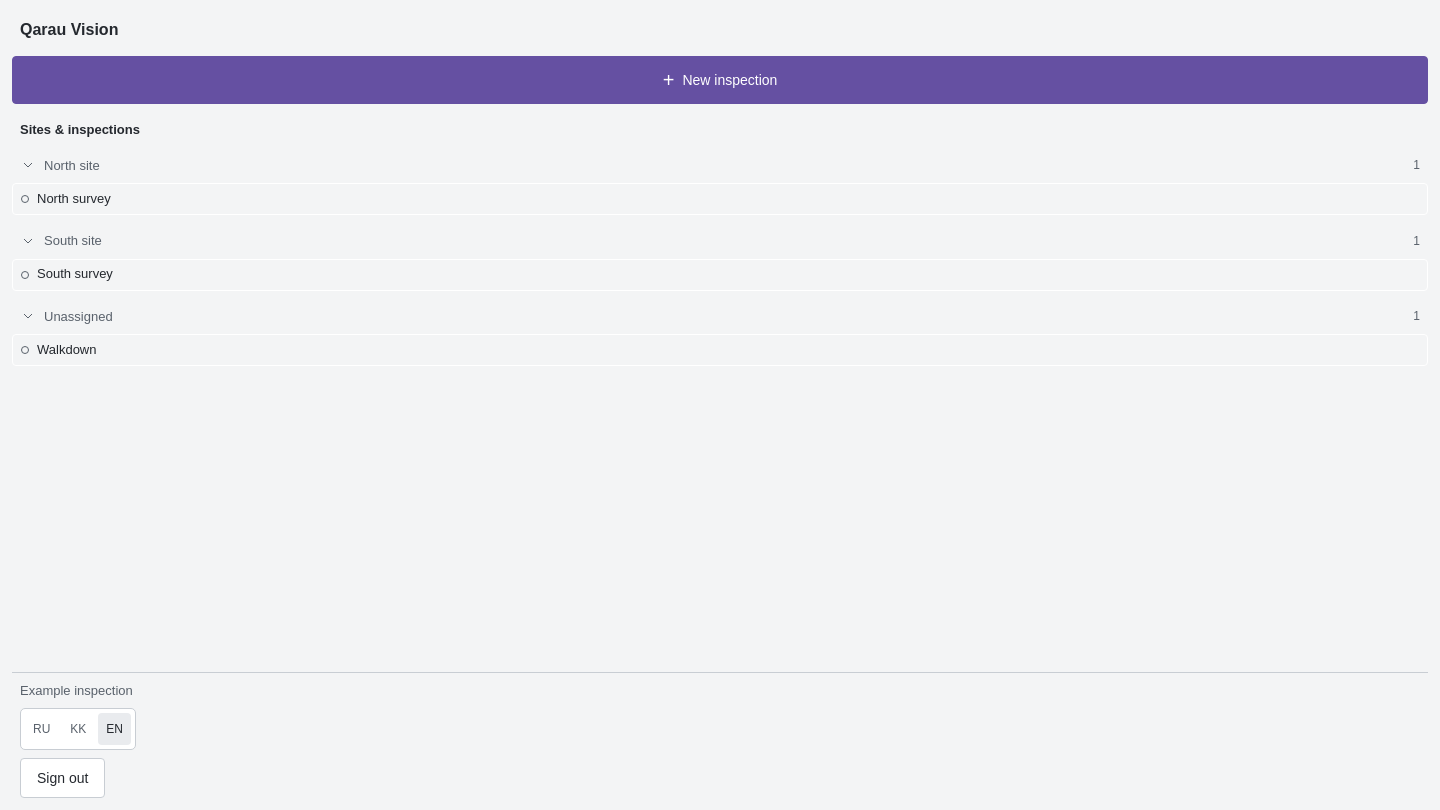
Test: Sidebar › opens the new inspection dialog from the button
The width and height of the screenshot is (1440, 810).
Click the button "+ New inspection": (720, 80) [12,56,1428,104]
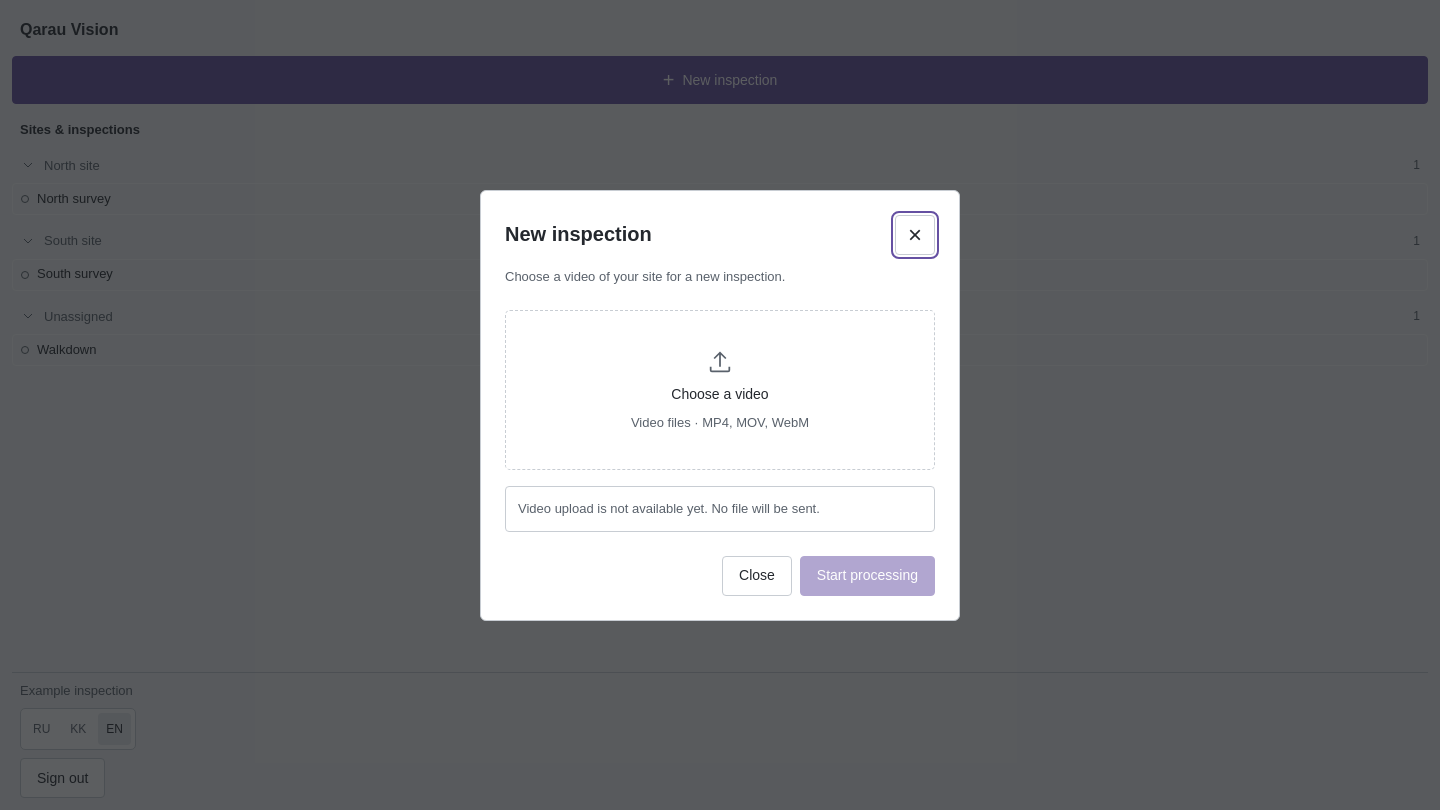
Expected: the dialog "New inspection" is shown, [480,190,960,620]
Expected: the text "Video upload is not available yet. No file will be sent." is shown, [505,486,935,532]
Click the button named "Close": (915, 234) [895,214,935,254]
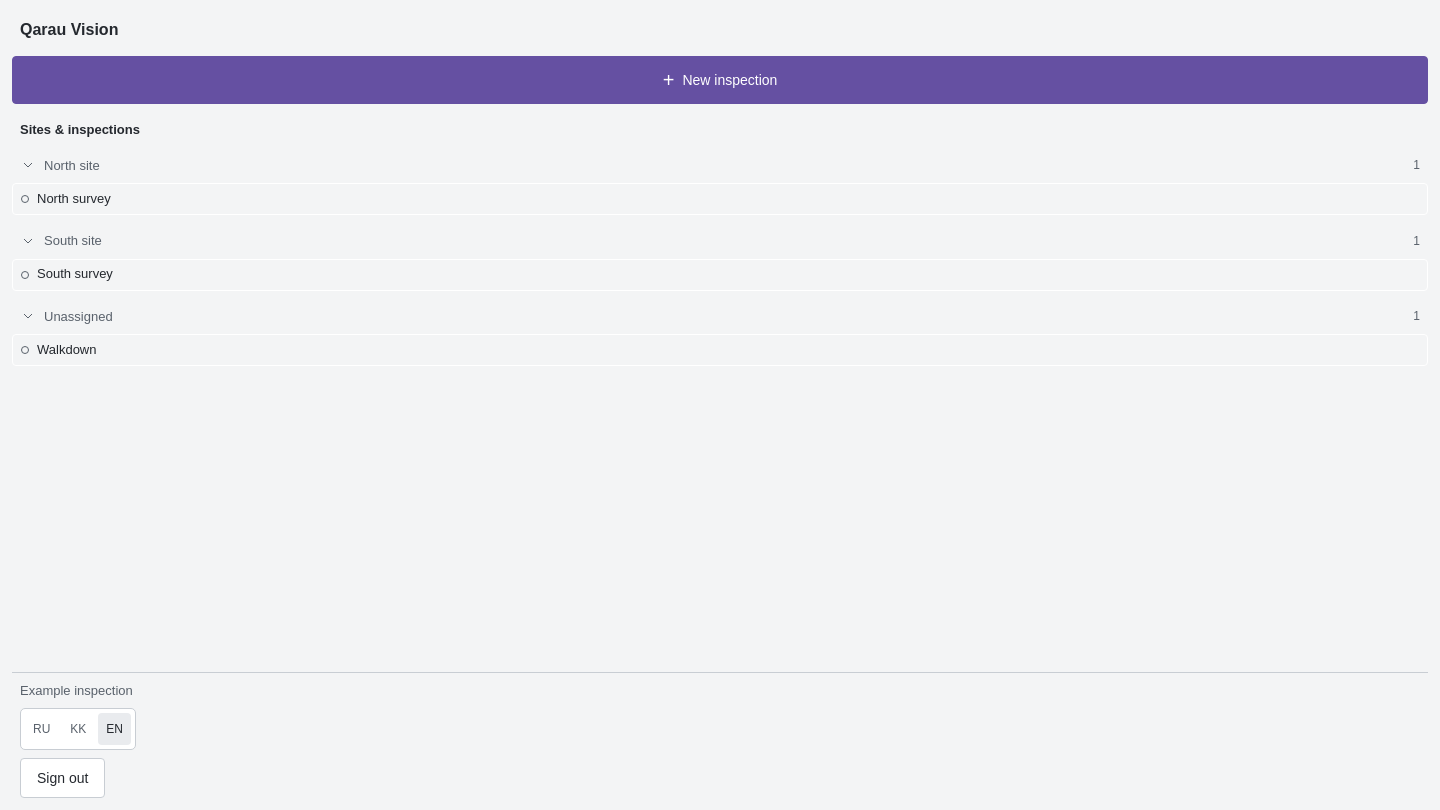
Expected: the dialog is gone
